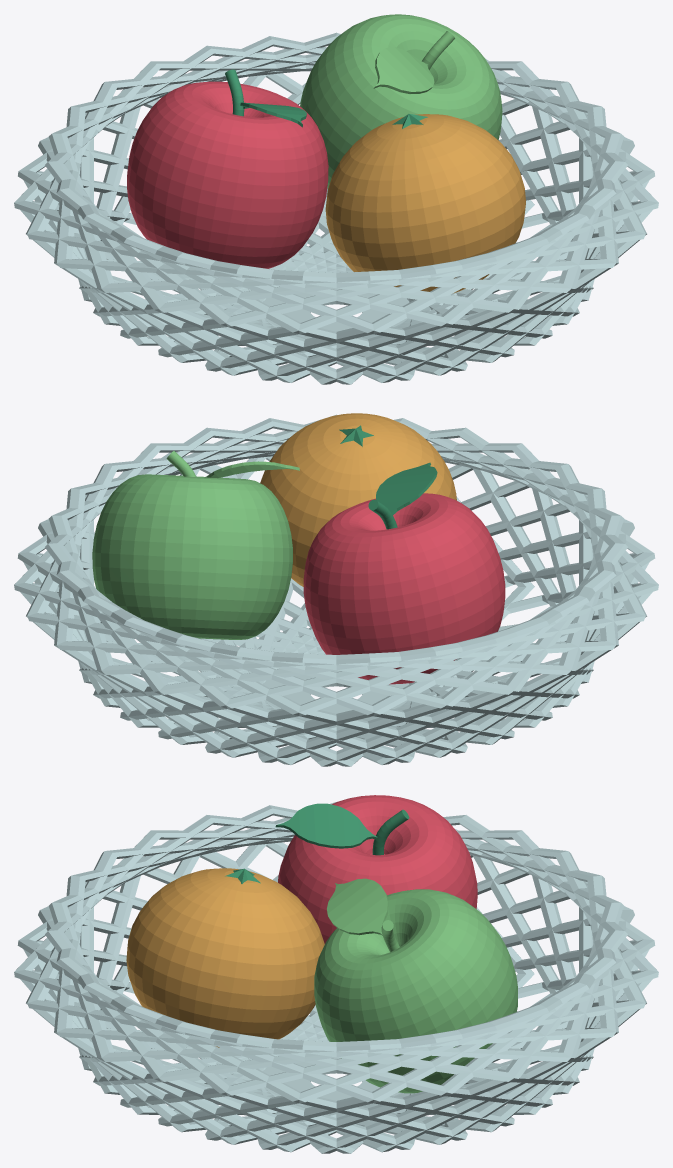
The model's file is Jaxon - Fruit Bowl.glb.
The picture shows the model from 3 angles, top to bottom: view 1: azimuth 30°, elevation 25°; view 2: azimuth 150°, elevation 25°; view 3: azimuth 270°, elevation 25°; orthographic projection.
Parts seen in each view (by area): view 1: Mesh_Mesh_head_geo.001_lambert2SG.001; view 2: Mesh_Mesh_head_geo.001_lambert2SG.001; view 3: Mesh_Mesh_head_geo.001_lambert2SG.001.
Part boxes in pixels (x1,y1,x2,y2): Mesh_Mesh_head_geo.001_lambert2SG.001: [14, 14, 658, 384]; Mesh_Mesh_head_geo.001_lambert2SG.001: [14, 413, 658, 766]; Mesh_Mesh_head_geo.001_lambert2SG.001: [14, 795, 658, 1153].
Bounding box in the file's own units: 0.064 × 0.0263 × 0.0641.
